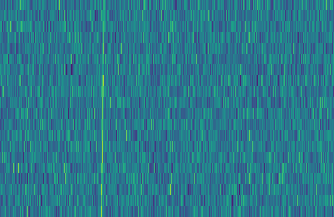signal: (95, 0, 107, 217)
